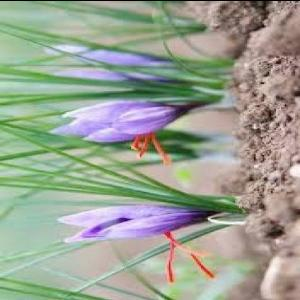Saffron: (57, 195, 228, 243), (50, 97, 199, 144), (44, 39, 182, 88)
